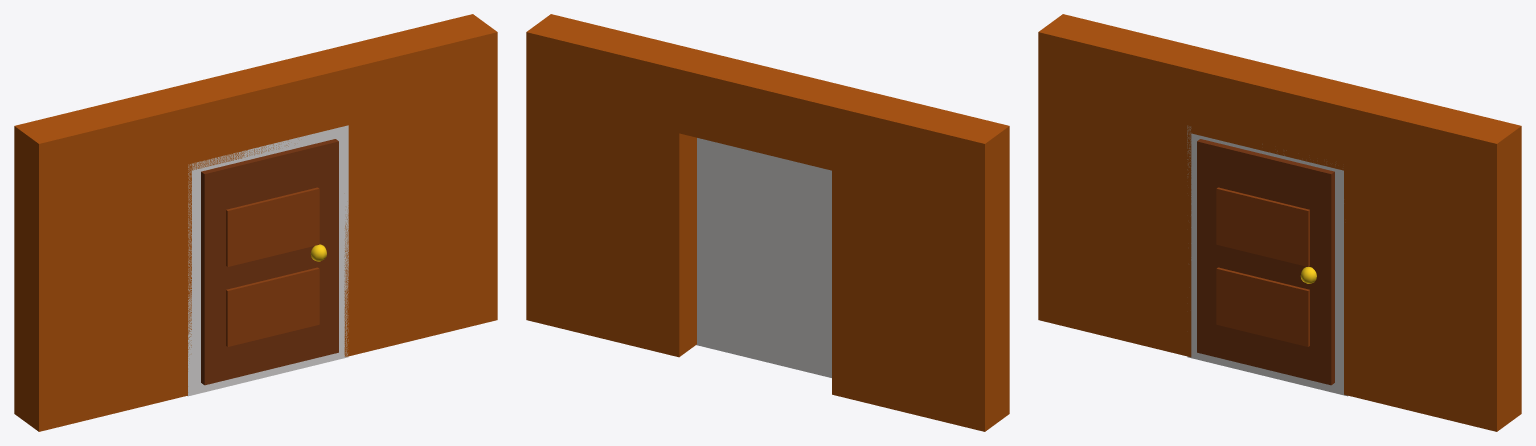
Rendered from brick_wall_door.glb.
3 views of the same model, side by side, from view 1: azimuth 30°, elevation 25°; view 2: azimuth 150°, elevation 25°; view 3: azimuth 330°, elevation 25° (orthographic).
Bounding box in the file's own units: 2.39 × 1.44 × 0.3021.
